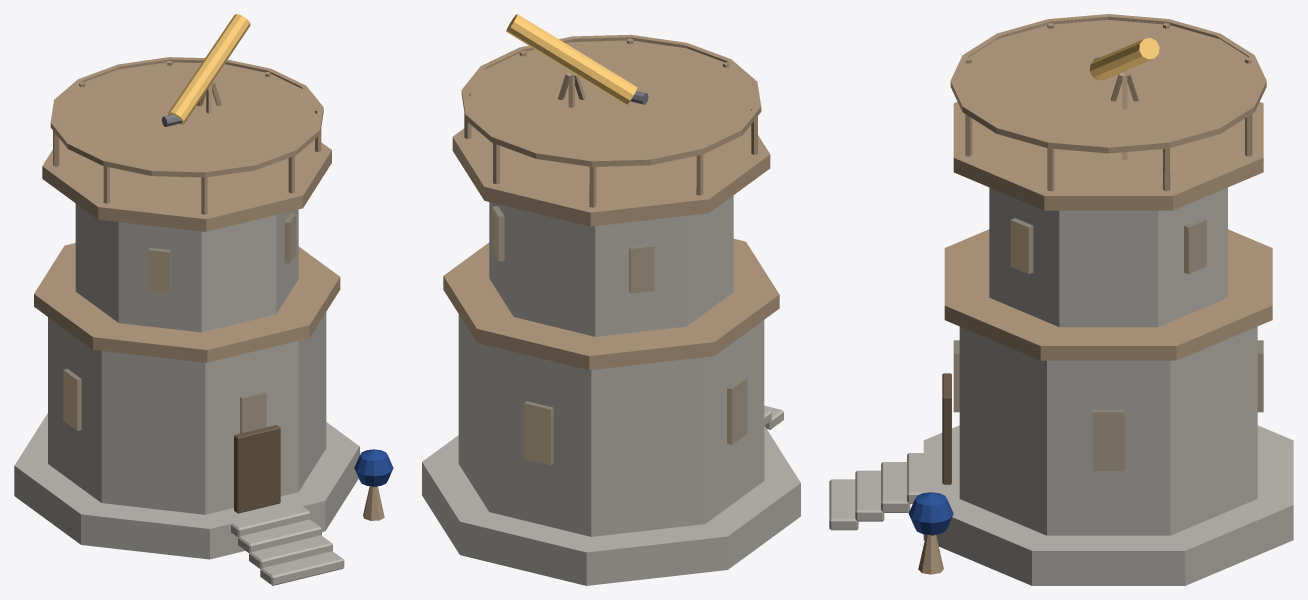
The model's file is bld_observatory.glb.
3 views of the same model, side by side, from view 1: azimuth 30°, elevation 25°; view 2: azimuth 150°, elevation 25°; view 3: azimuth 270°, elevation 25° (orthographic). The views are drawn at different scales.
Visible parts, largest first — view 1: observatory; view 2: observatory; view 3: observatory.
Part boxes in pixels (x1,y1,x2,y2): observatory: (14,14,393,585); observatory: (422,14,800,585); observatory: (829,14,1293,585).
Bounding box in the file's own units: 1.15 × 1.75 × 1.44.
